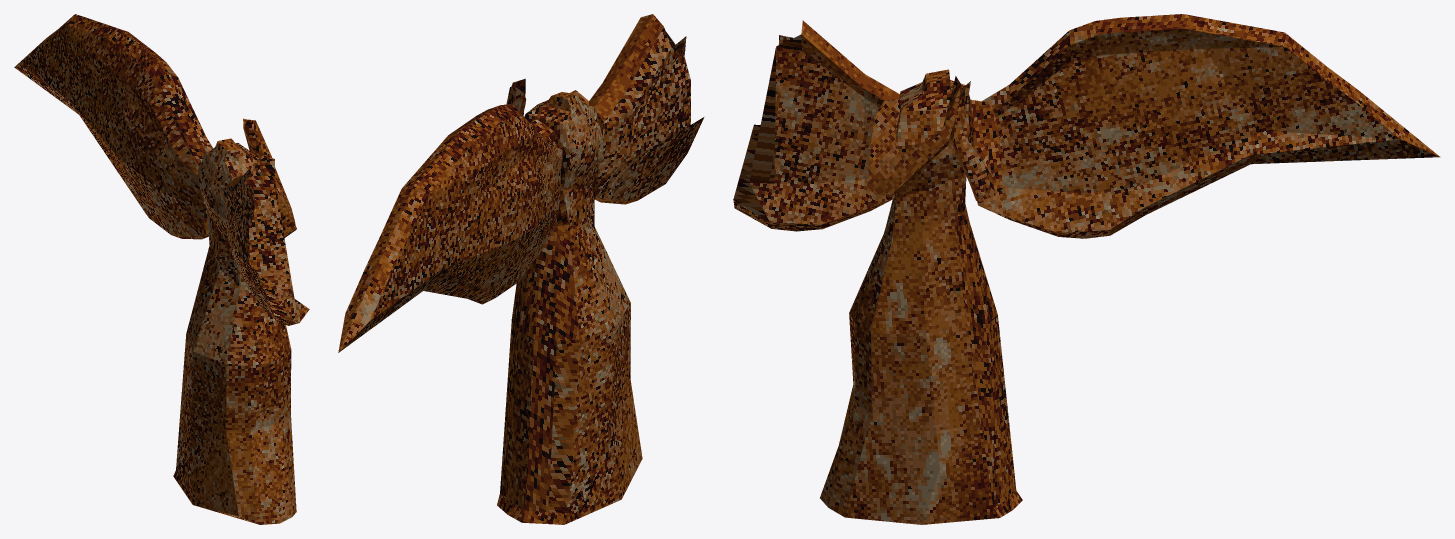
Rendered from genericStatue.glb.
3 views of the same model, side by side, from view 1: azimuth 30°, elevation 25°; view 2: azimuth 150°, elevation 25°; view 3: azimuth 270°, elevation 25° (orthographic). The views are drawn at different scales.
Visible parts, largest first — view 1: Cubo.003; view 2: Cubo.003; view 3: Cubo.003.
Part boxes in pixels (x1,y1,x2,y2): Cubo.003: [14, 14, 309, 524]; Cubo.003: [338, 14, 704, 524]; Cubo.003: [733, 14, 1440, 524].
Bounding box in the file's own units: 2.59 × 10.41 × 13.92.
Materials: 1 (1 with a texture image).
